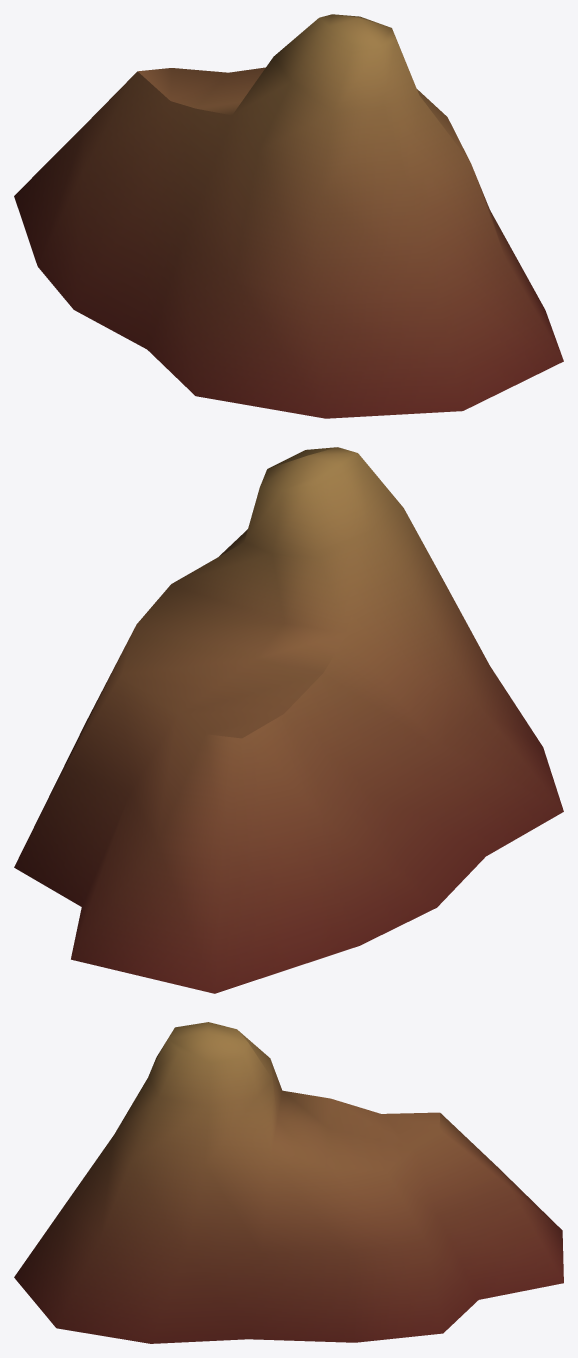
File: Mountain_big.003.fbx
3 renders of one model, top to bottom at view 1: azimuth 30°, elevation 25°; view 2: azimuth 150°, elevation 25°; view 3: azimuth 270°, elevation 25°, orthographic. The views are drawn at different scales.
Parts seen in each view (by area): view 1: Mountain_big.003; view 2: Mountain_big.003; view 3: Mountain_big.003.
Boxes of the visible parts, x1,y1,x2,y2 form: Mountain_big.003: (14, 14, 563, 418); Mountain_big.003: (14, 447, 563, 993); Mountain_big.003: (14, 1022, 563, 1343).
Size of the model in its own units: 122 by 99.98 by 200.
